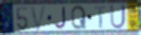5: (15, 7, 29, 31)
J: (54, 6, 67, 30)
Q: (70, 5, 87, 31)
T: (94, 5, 107, 30)
U: (109, 3, 127, 30)
V: (29, 4, 48, 32)
